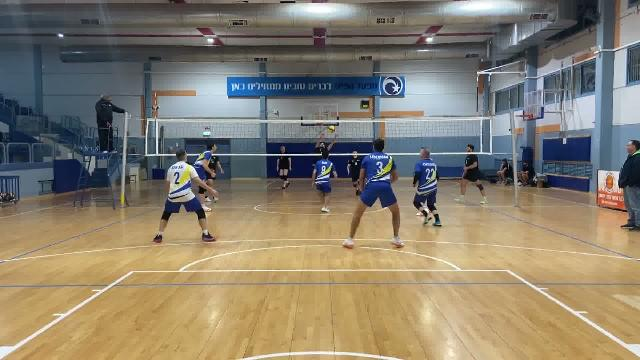ball: (326, 125, 336, 135)
